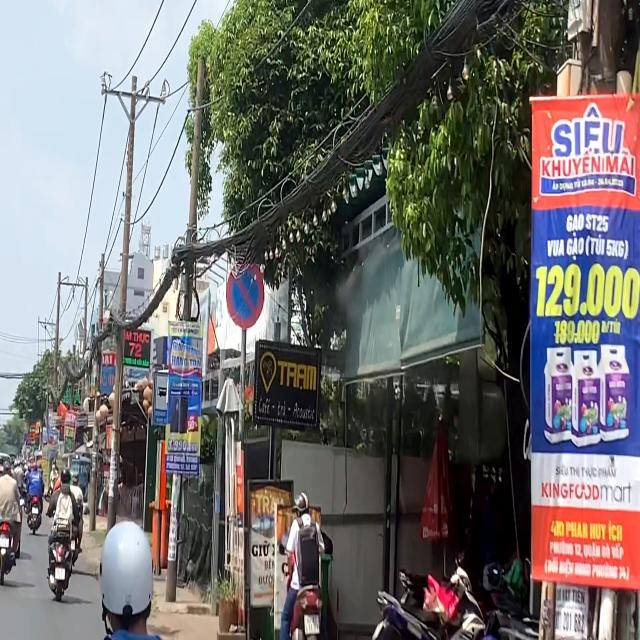bien_cam: (227, 264, 264, 330)
